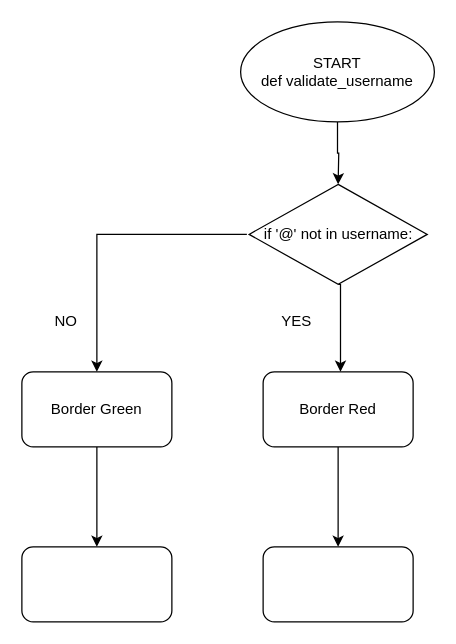
Some shapes in this 456 by 644 pixel diagram are drawn without their labels. Here are the shapes that lost their labels. From the top down, the box of each, then its label:
(21, 546, 172, 622): Return True
(262, 546, 413, 622): Return False
